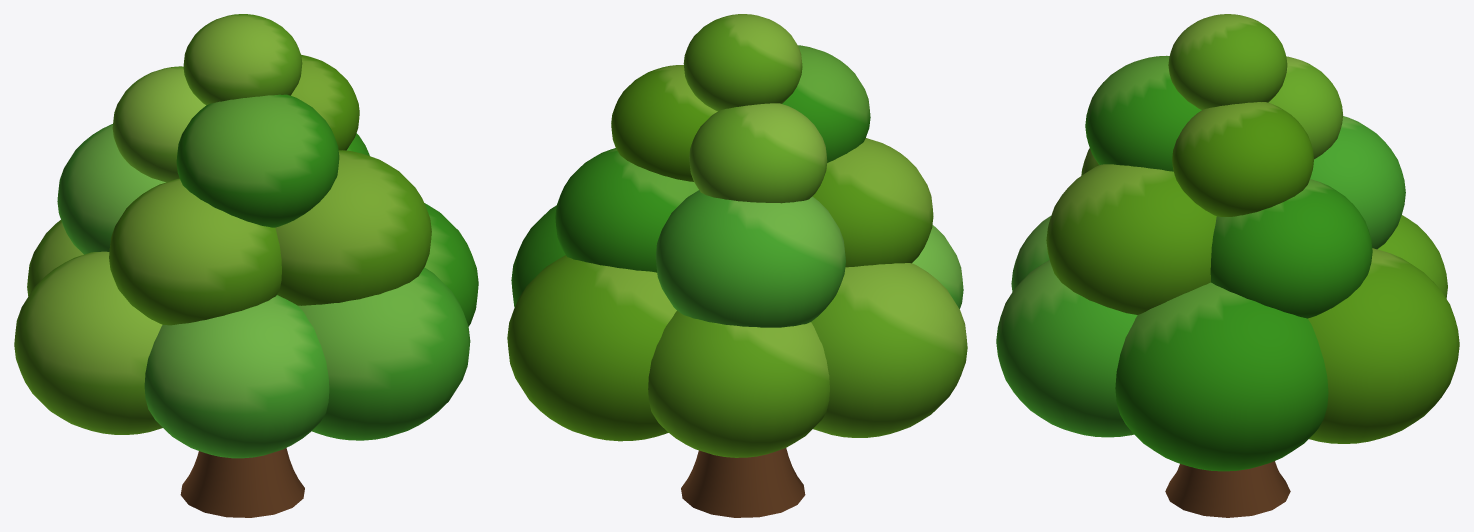
File: pine-tree-5.obj
3 renders of one model, left to right at view 1: azimuth 30°, elevation 25°; view 2: azimuth 150°, elevation 25°; view 3: azimuth 270°, elevation 25°, orthographic.
Visible parts, largest first — view 1: tree; view 2: tree; view 3: tree.
Part boxes in pixels (x1=…): tree: x1=14, y1=14, x2=478, y2=517; tree: x1=507, y1=14, x2=967, y2=517; tree: x1=996, y1=14, x2=1459, y2=517.
Size of the model in its own units: 259 by 271 by 242.
